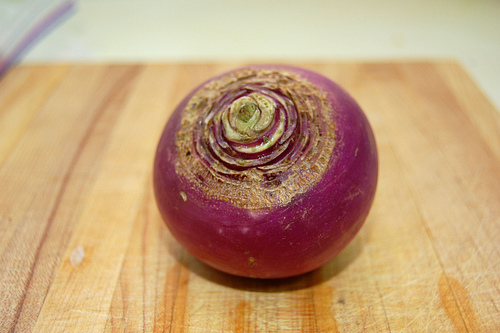turnip: (153, 64, 379, 282)
